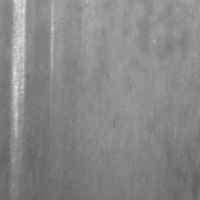scratches: (8, 0, 30, 148), (45, 1, 58, 87)
